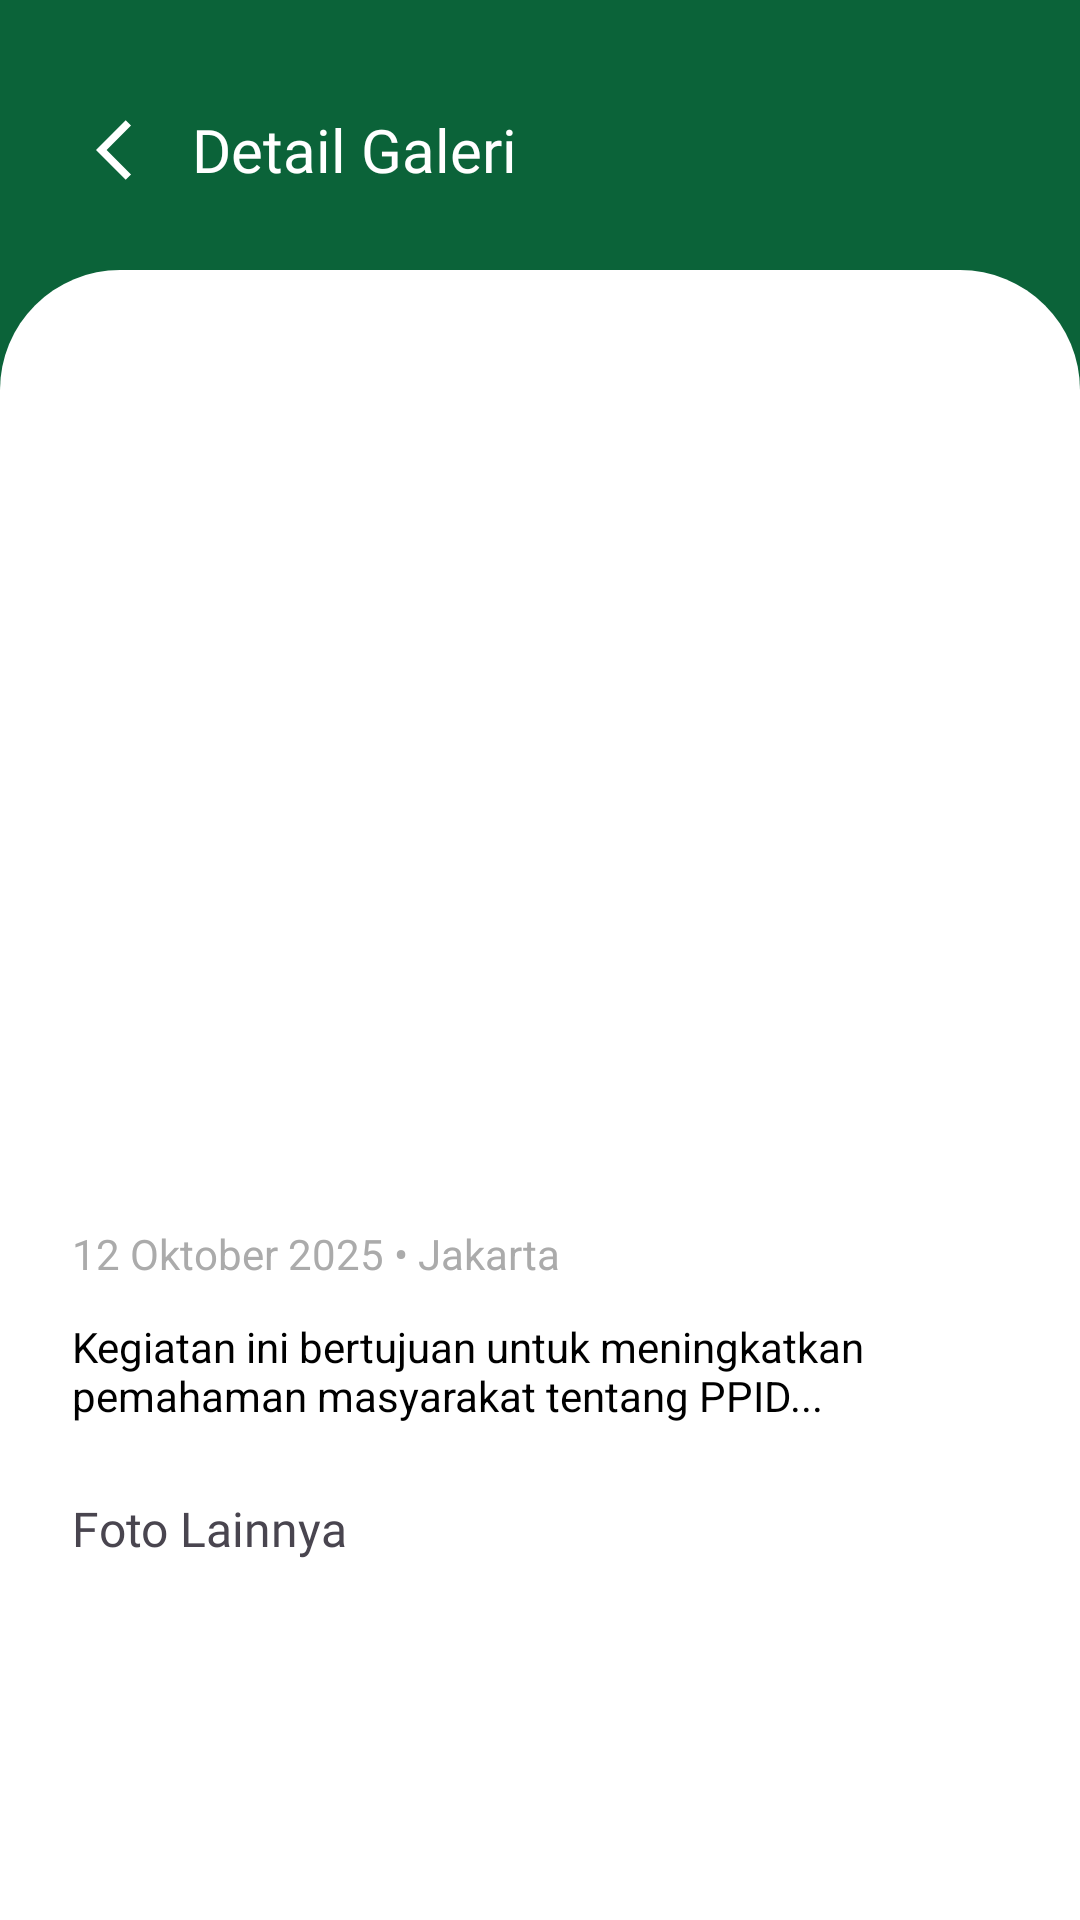

Icon bounding boxes for this 1080x1920 phone screenshot, format [x1=x1, y1=y1, x2=x2, y2=y2]:
Kembali: [x1=96, y1=120, x2=131, y2=180]
